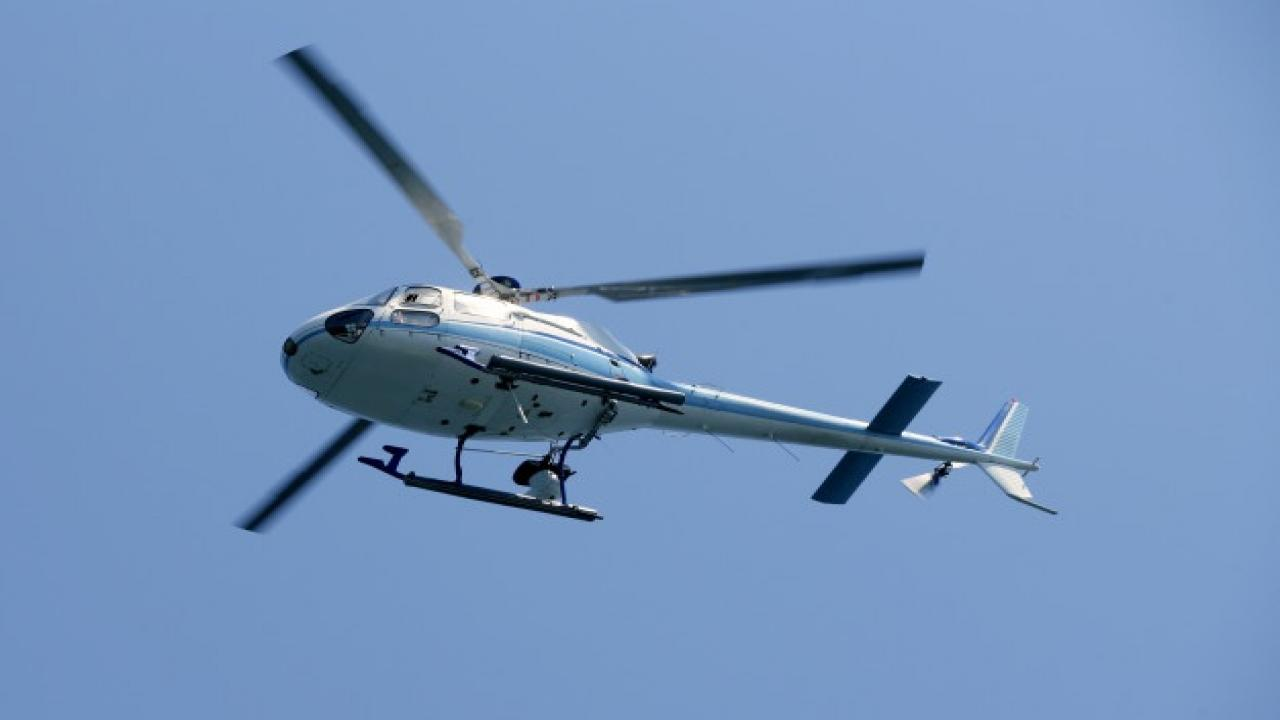Helicopter: (132, 27, 1113, 578)
